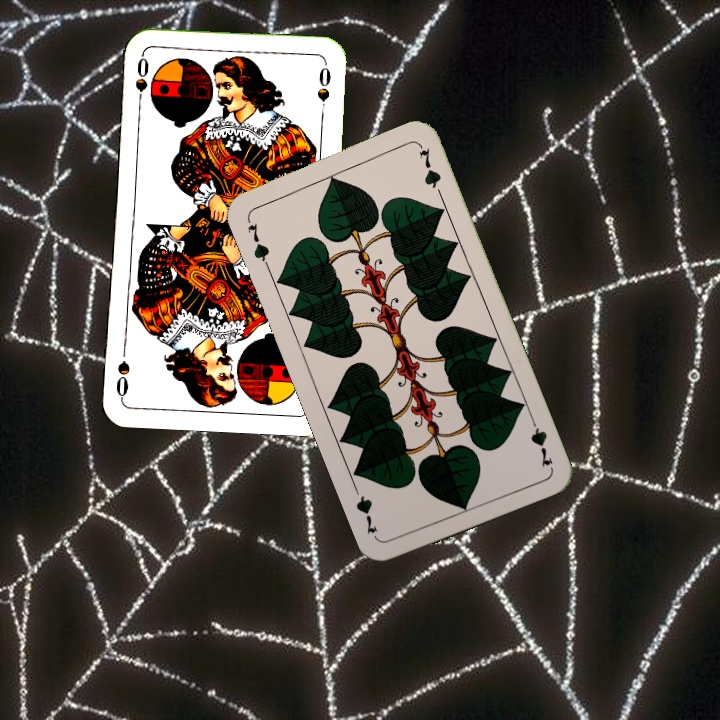G7: (526, 412, 556, 470), (242, 213, 272, 270)
SO: (131, 52, 152, 111)
